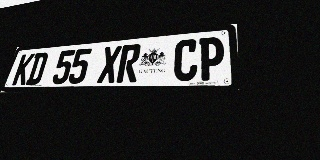5: (67, 48, 92, 84), (51, 50, 76, 84)
C: (173, 39, 199, 81)
D: (25, 52, 49, 85)
K: (11, 53, 35, 85)
P: (198, 36, 224, 81)
R: (116, 44, 142, 83)
X: (97, 45, 122, 83)
